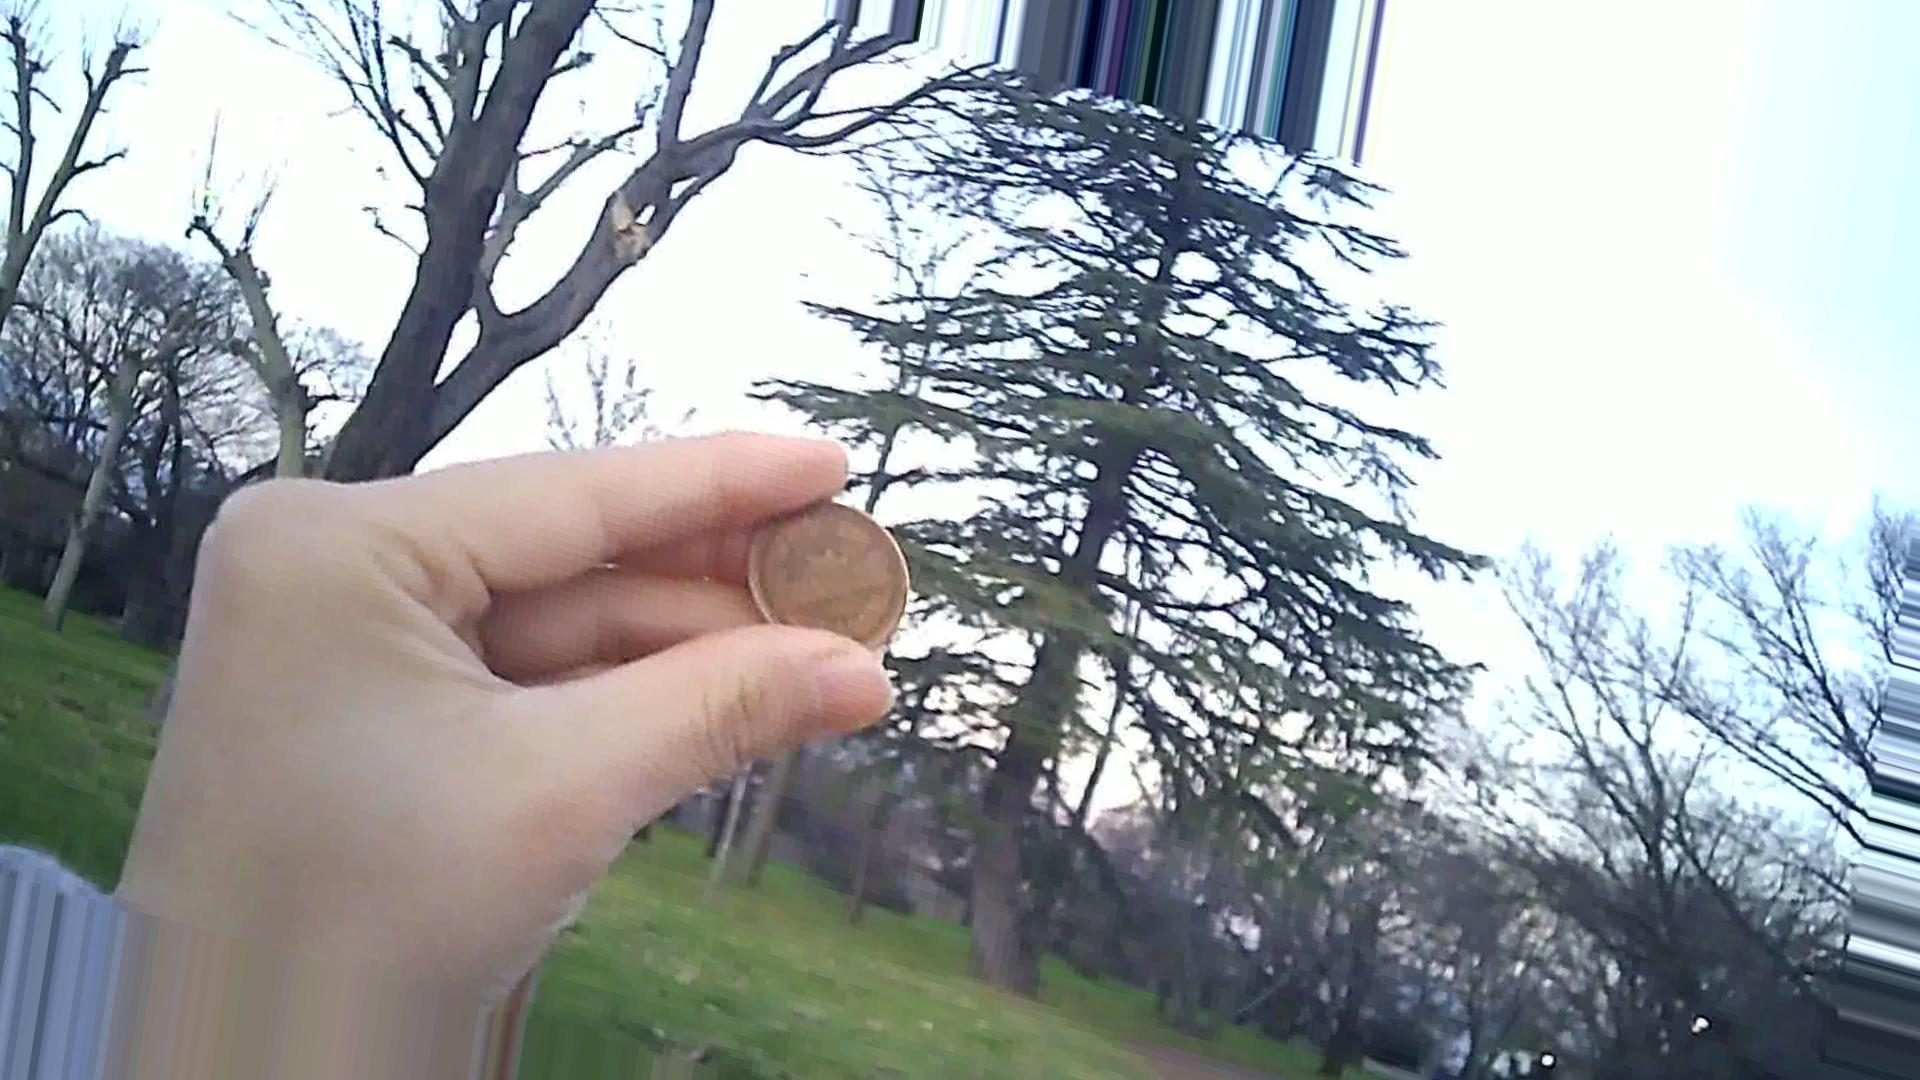10 Yen: (732, 493, 916, 671)
